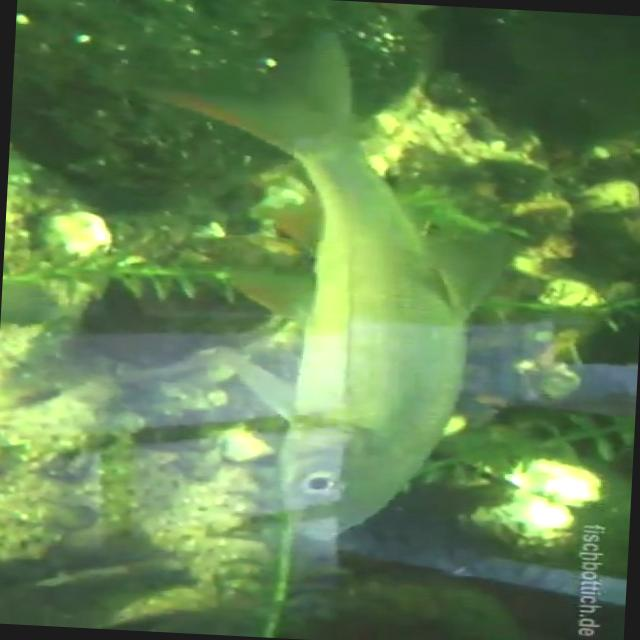Cakil Baligi: (104, 20, 498, 548)
